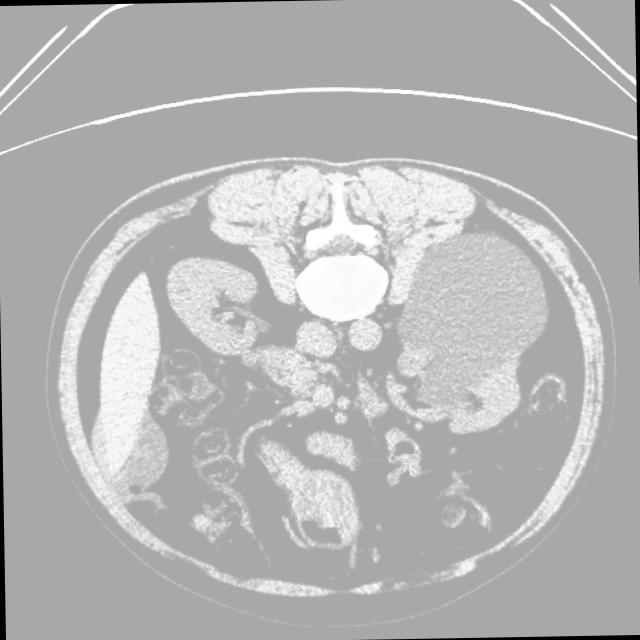cysts: (49, 154, 609, 608)
